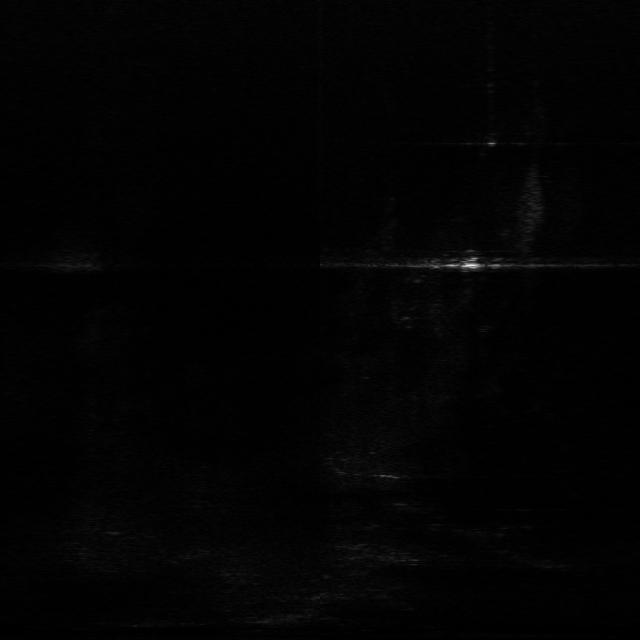rov: (458, 254, 487, 273)
